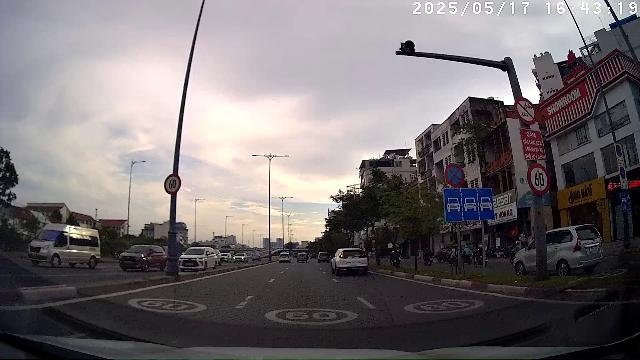127-toc-do-toi-da-60: (527, 162, 551, 195), (163, 173, 181, 195)
130-cam-dung-va-do-xe: (444, 163, 465, 187)
